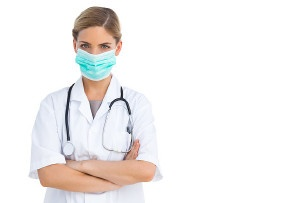Mask: (74, 37, 118, 81)
